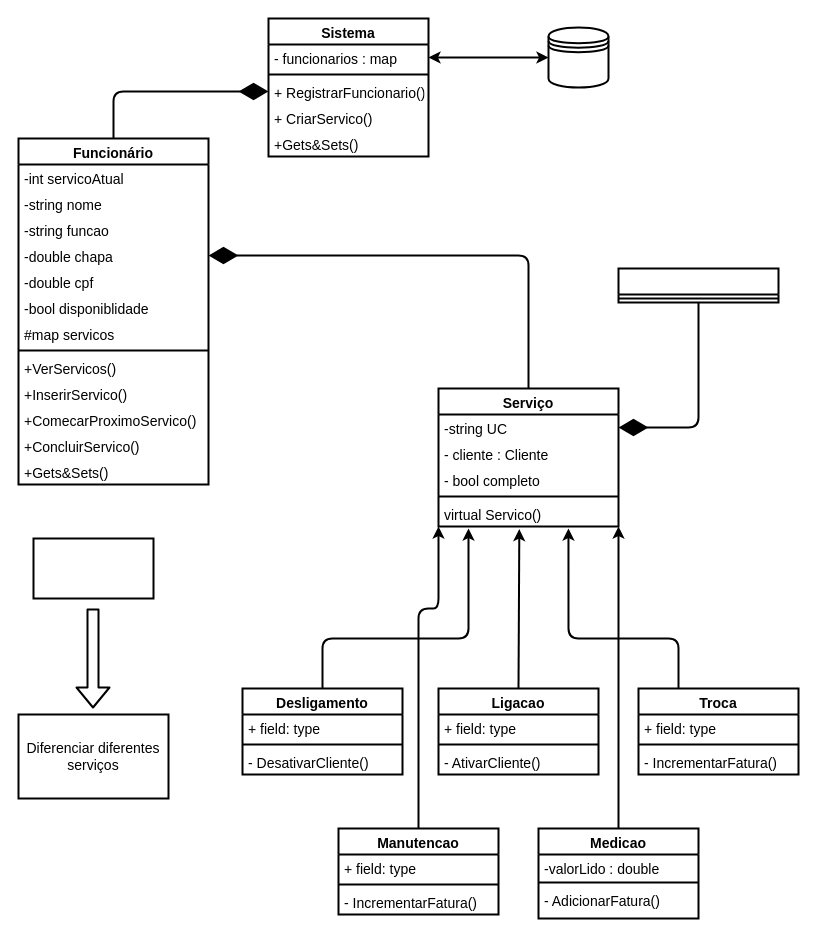
Image size: 816x938. Some labels were removed from this diagram. Here are the shapes that lost their labels. From the top down, the centre of each, then its label:
At (698,285): "Cliente".
At (93,568): "A ser feito".
